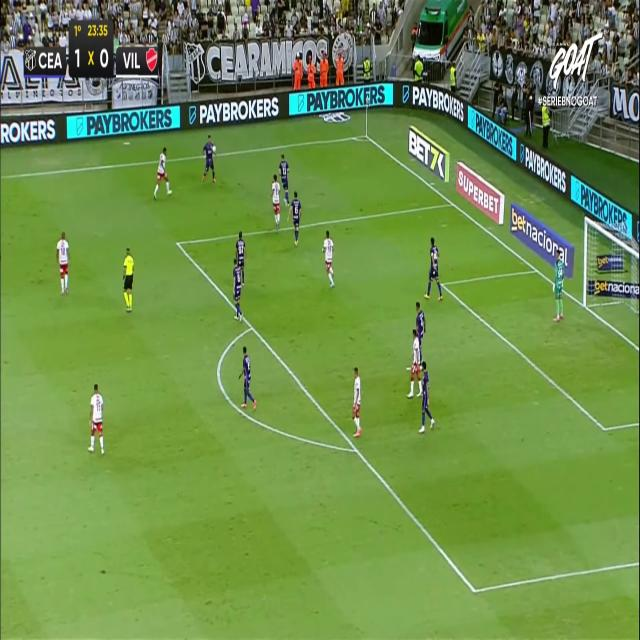ball: (211, 142, 217, 155)
goalkeeper: (553, 252, 565, 321)
player: (423, 236, 443, 301), (418, 360, 435, 432), (407, 334, 424, 402), (238, 346, 256, 410), (88, 383, 104, 454), (154, 147, 173, 198), (56, 231, 69, 294), (279, 149, 292, 208), (414, 301, 426, 364), (232, 258, 244, 320), (322, 230, 334, 287), (352, 368, 362, 436), (202, 135, 216, 183), (290, 191, 302, 246), (235, 230, 246, 286), (270, 173, 281, 228)
referee: (122, 246, 134, 311)
